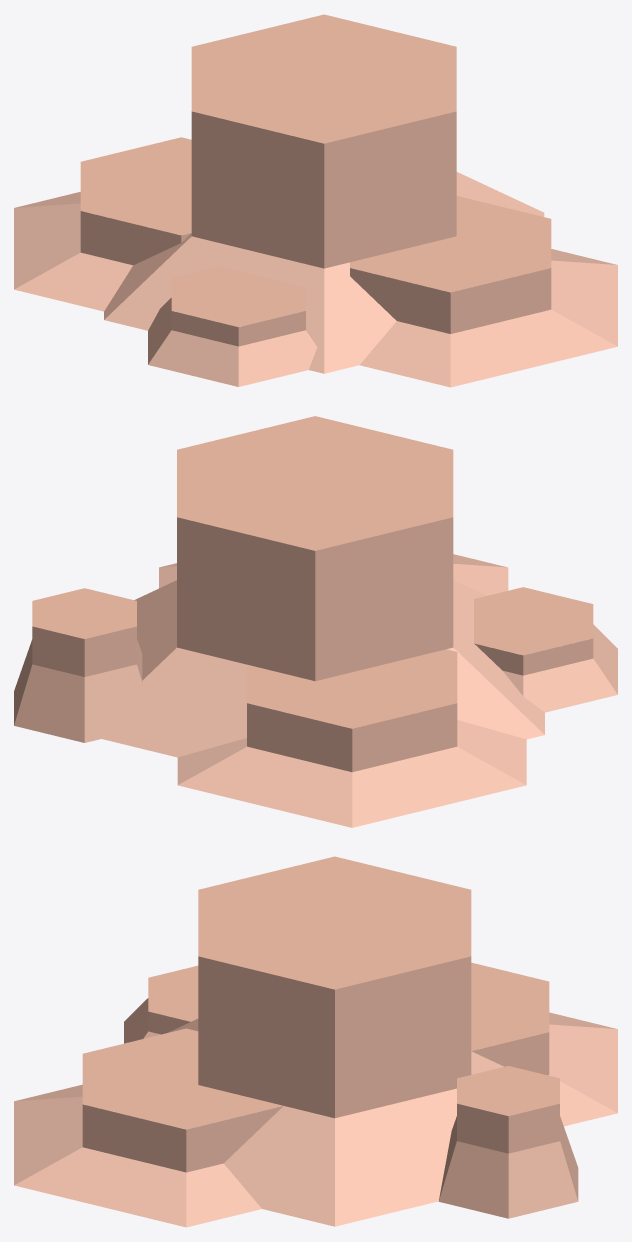
The model's file is rock.glb.
3 renders of one model, top to bottom at view 1: azimuth 30°, elevation 25°; view 2: azimuth 150°, elevation 25°; view 3: azimuth 270°, elevation 25°, orthographic. The views are drawn at different scales.
Visible parts, largest first — view 1: rock; view 2: rock; view 3: rock.
Boxes of the visible parts, box(x1,y1,x2,y2) form: rock: box(14, 14, 617, 387); rock: box(14, 416, 617, 827); rock: box(14, 856, 617, 1227).
Size of the model in its own units: 0.8015 by 0.3 by 0.8509.
